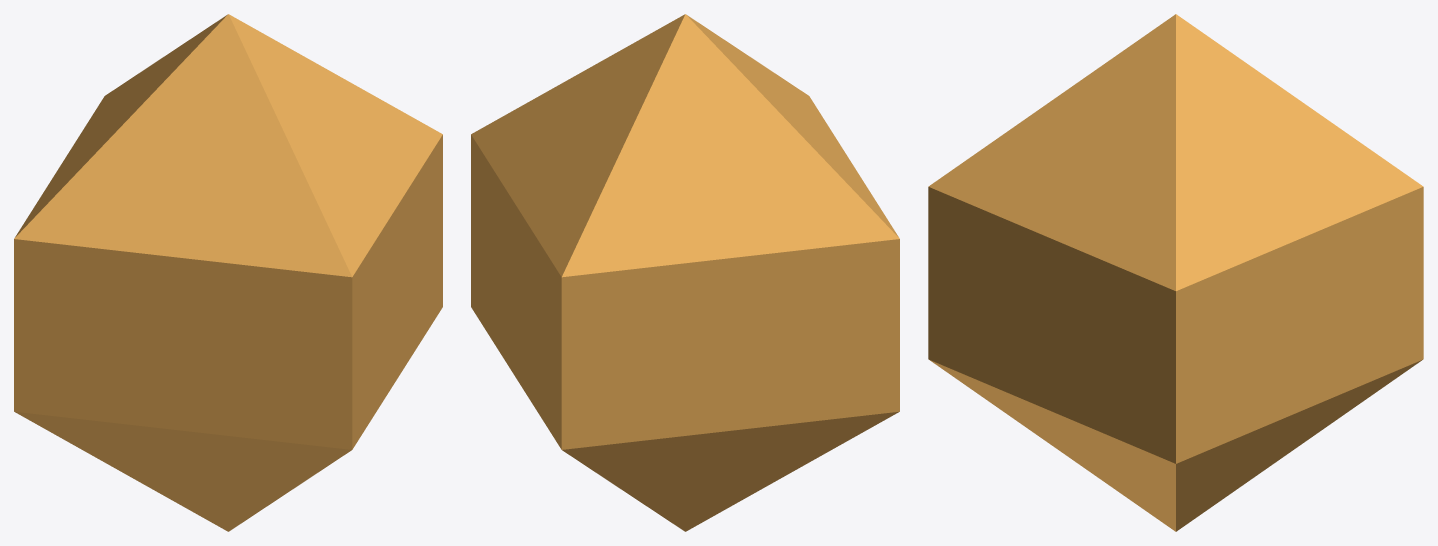
The model's file is Gem_05.fbx.
The picture shows the model from 3 angles, left to right: view 1: azimuth 30°, elevation 25°; view 2: azimuth 150°, elevation 25°; view 3: azimuth 270°, elevation 25°; orthographic projection.
Parts seen in each view (by area): view 1: Gem_05; view 2: Gem_05; view 3: Gem_05.
Part boxes in pixels (x1,y1,x2,y2): Gem_05: [14, 14, 442, 531]; Gem_05: [471, 14, 899, 531]; Gem_05: [928, 14, 1423, 531].
Size of the model in its own units: 260 by 300 by 260.
